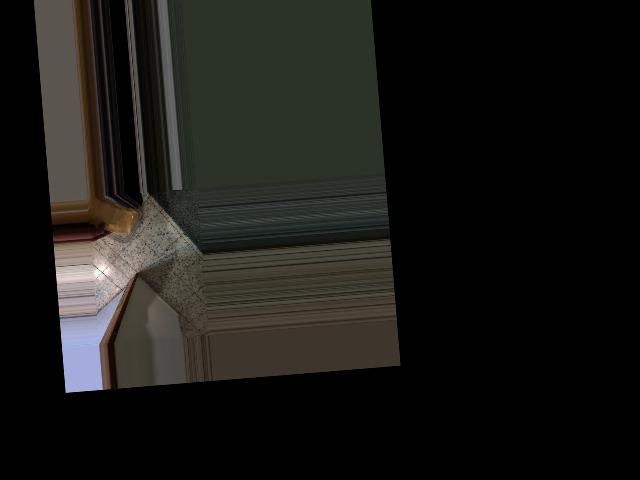cheese: (85, 191, 144, 245)
